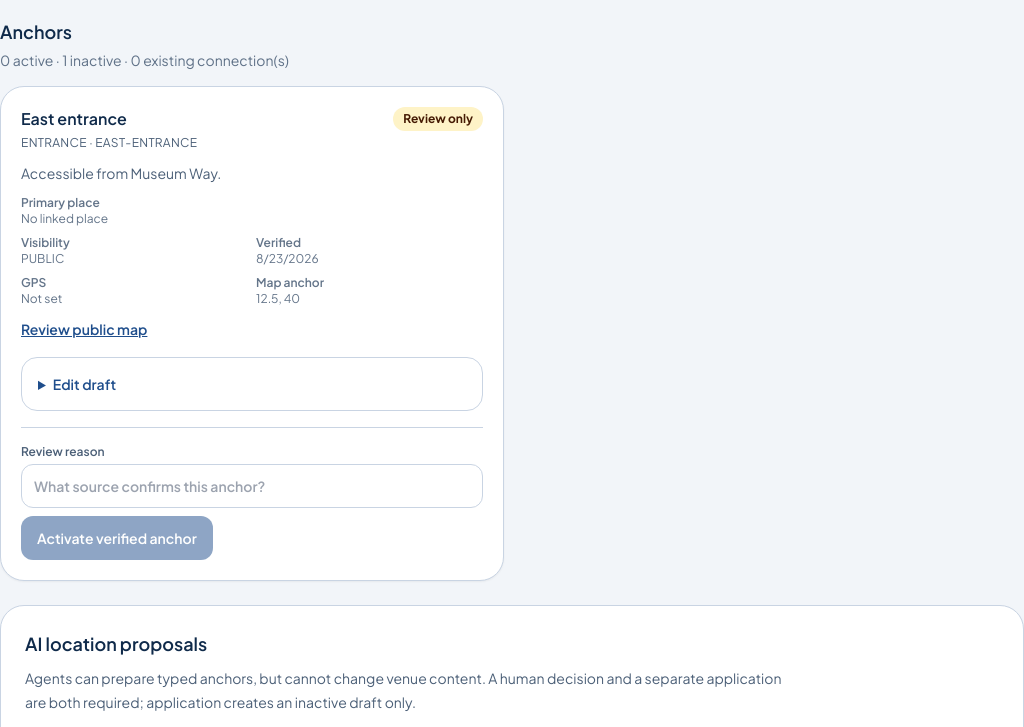
VenueLocationAuthoring › corrects an inactive draft with its exact revision and a human reason
(page scrolled)
Click the heading "Edit draft" at (84, 384), box [53,375,116,393]
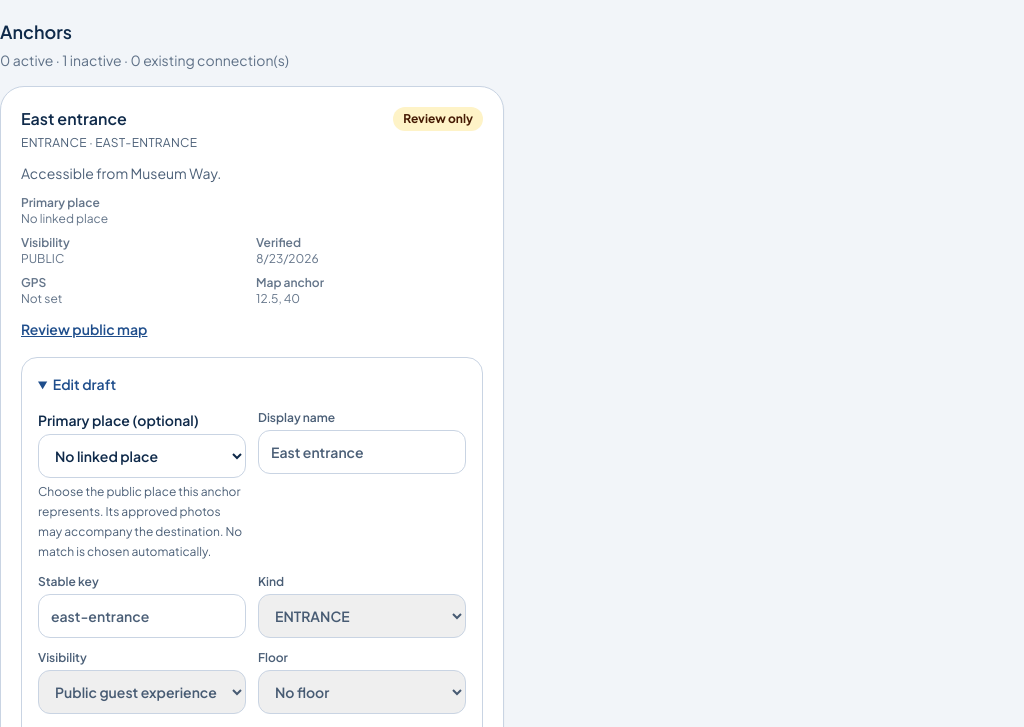
Replace the text in the field labelled "Display name" with "Accessible east entrance" at (362, 452), box [258,430,466,474]
(page scrolled)
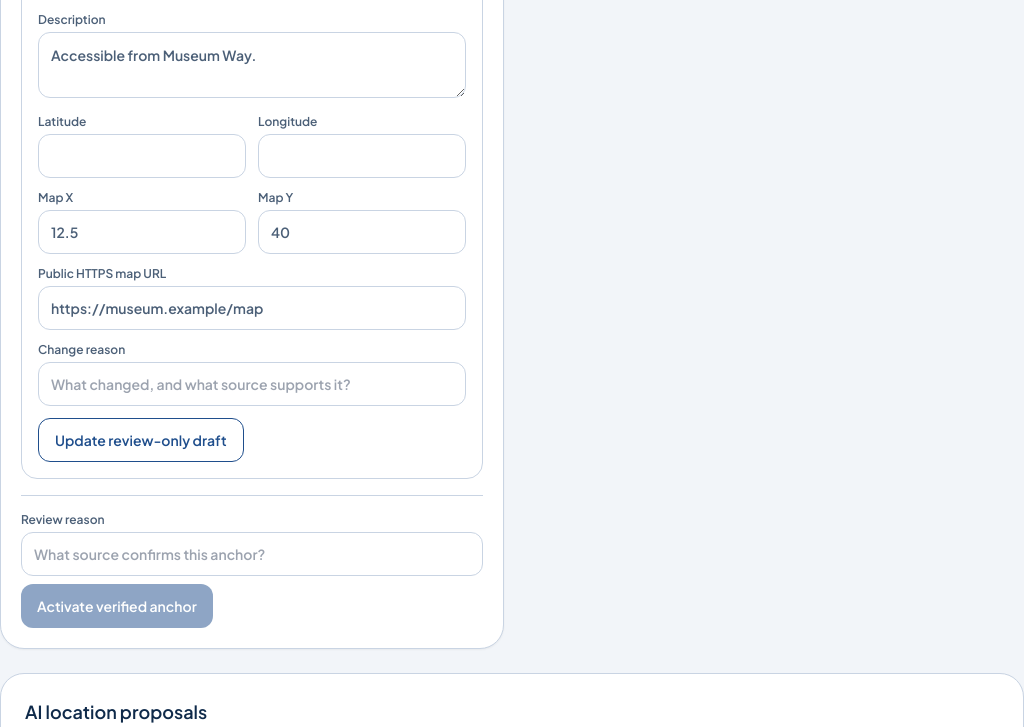
Type "Corrected against the current visitor map." into the field labelled "Change reason" at (252, 384), box [38,362,466,406]
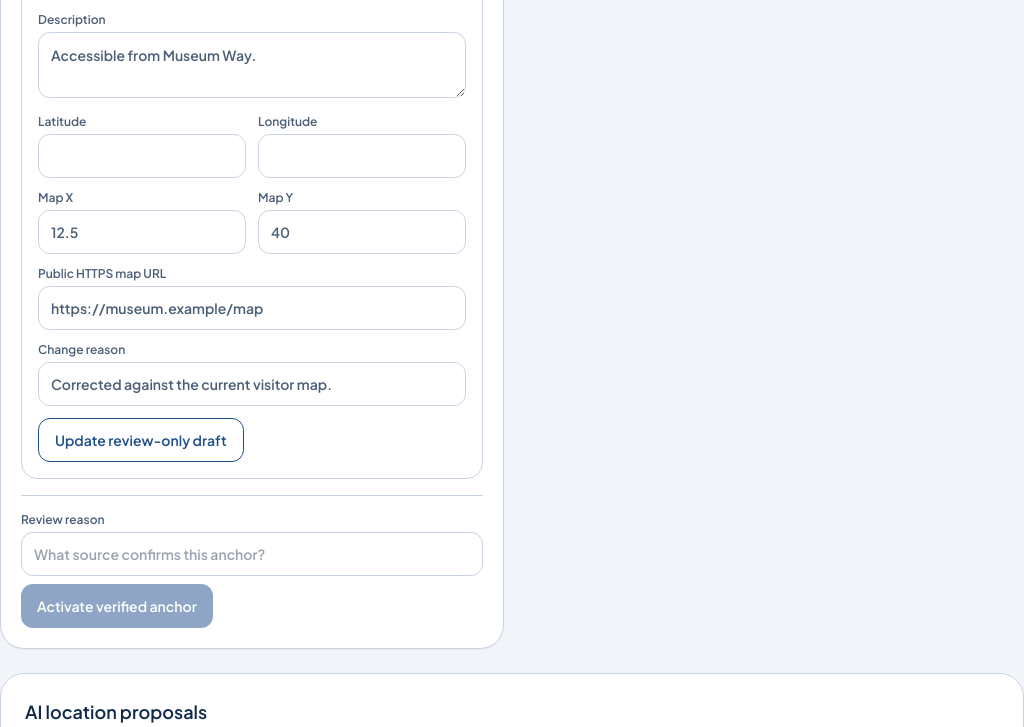
Click the button "Update review-only draft" at (141, 440), box [38,418,244,462]
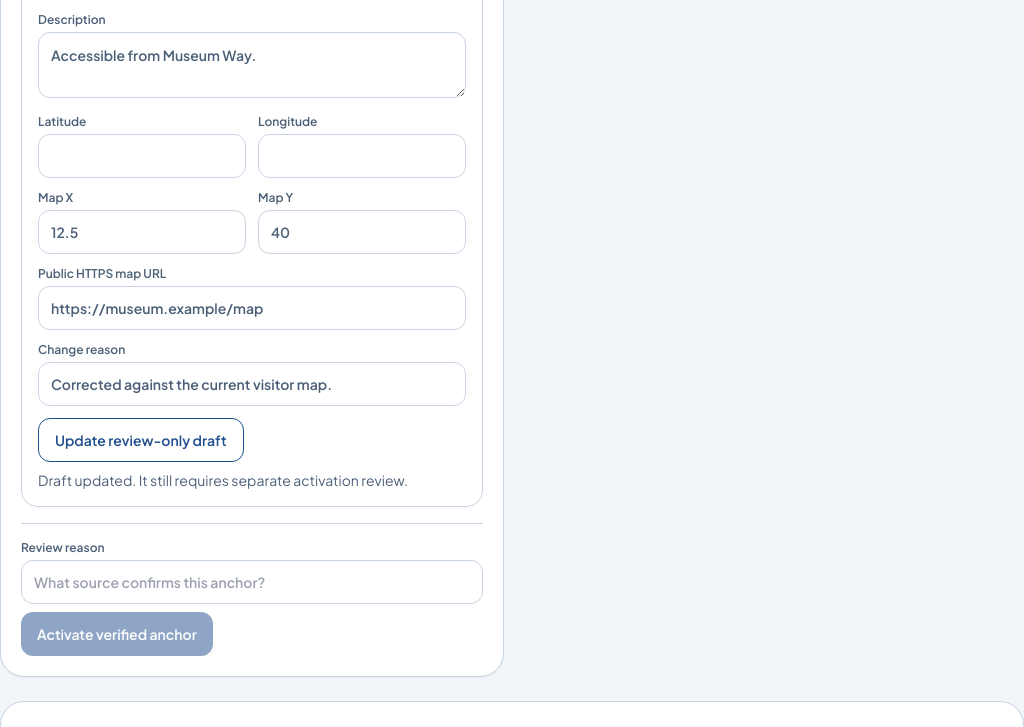
Check: the text "Draft updated. It still requires separate activation review." is shown, box [38,470,466,490]
